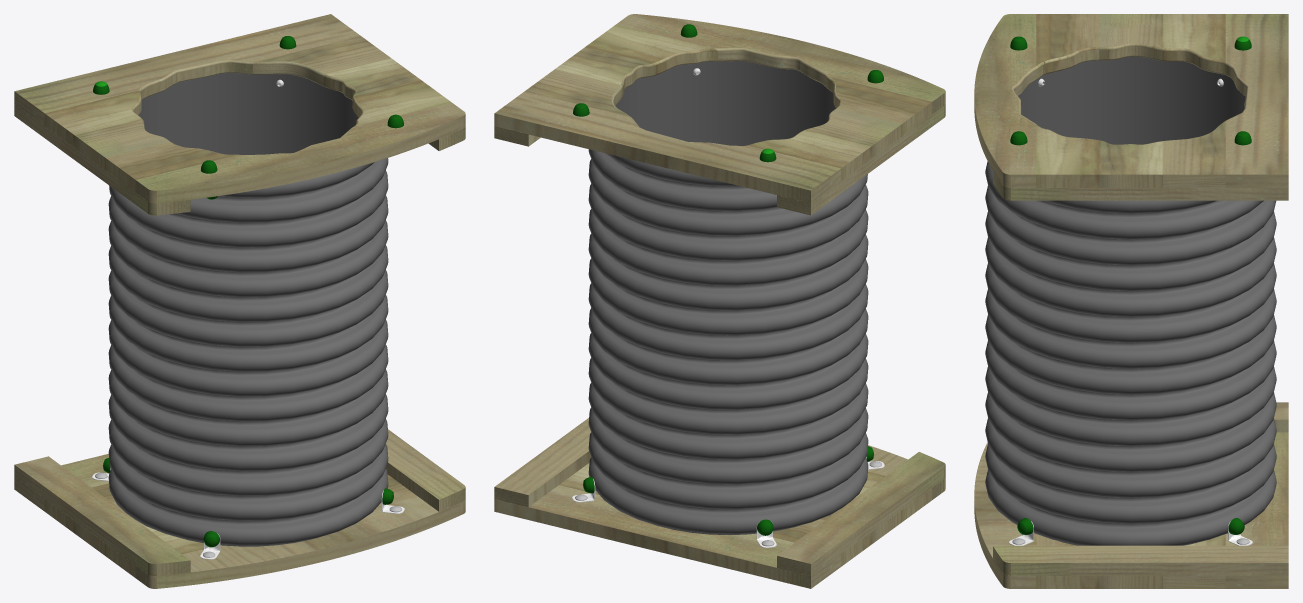
File: 1114 - Little Movers Tunnel Small.obj
3 renders of one model, left to right at view 1: azimuth 30°, elevation 25°; view 2: azimuth 150°, elevation 25°; view 3: azimuth 270°, elevation 25°, orthographic. The views are drawn at different scales.
Parts seen in each view (by area): view 1: Object_743, object_2, object_4, object_1, object_26, object_15, object_25, object_16, object_19, object_18, object_17, object_20 (+5 smaller); view 2: Object_743, object_4, object_3, object_2, object_26, object_25, object_18, object_19, object_16, object_15, object_20, object_17 (+5 smaller); view 3: Object_743, object_4, object_25, object_2, object_28, object_3, object_19, object_18, object_16, object_15, object_1, object_17 (+6 smaller).
Part boxes in pixels (x1,y1,x2,y2): Object_743: [108, 72, 388, 546]; object_2: [135, 103, 465, 203]; object_4: [14, 14, 360, 125]; object_1: [135, 496, 465, 588]; object_26: [14, 456, 190, 575]; object_15: [253, 36, 391, 86]; object_25: [386, 429, 465, 511]; object_16: [44, 90, 141, 147]; object_19: [105, 142, 238, 192]; object_18: [352, 80, 451, 126]; object_17: [75, 119, 170, 169]; object_20: [324, 58, 421, 107]; Object_743: [588, 60, 868, 534]; object_4: [494, 91, 841, 203]; object_3: [494, 485, 841, 588]; object_2: [616, 14, 945, 114]; object_26: [777, 452, 945, 575]; object_25: [494, 418, 590, 506]; object_18: [585, 24, 717, 75]; object_19: [826, 76, 932, 136]; object_16: [747, 130, 871, 180]; object_15: [525, 69, 630, 116]; object_20: [555, 47, 654, 96]; object_17: [805, 108, 901, 158]; Object_743: [985, 56, 1276, 545]; object_4: [1225, 14, 1288, 187]; object_25: [993, 545, 1288, 575]; object_2: [974, 14, 1036, 187]; object_28: [993, 171, 1288, 200]; object_3: [1225, 432, 1288, 588]; object_19: [1036, 14, 1099, 79]; object_18: [1036, 124, 1099, 187]; object_16: [1162, 14, 1225, 74]; object_15: [1162, 121, 1225, 187]; object_1: [974, 442, 1036, 588]; object_17: [1099, 14, 1162, 61].
Bounding box in the file's own units: 88 × 111 × 72.76.
